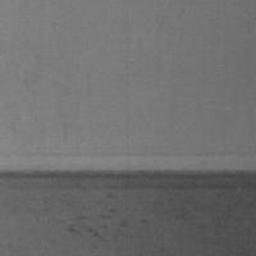Welding line: (0, 168, 256, 182)
